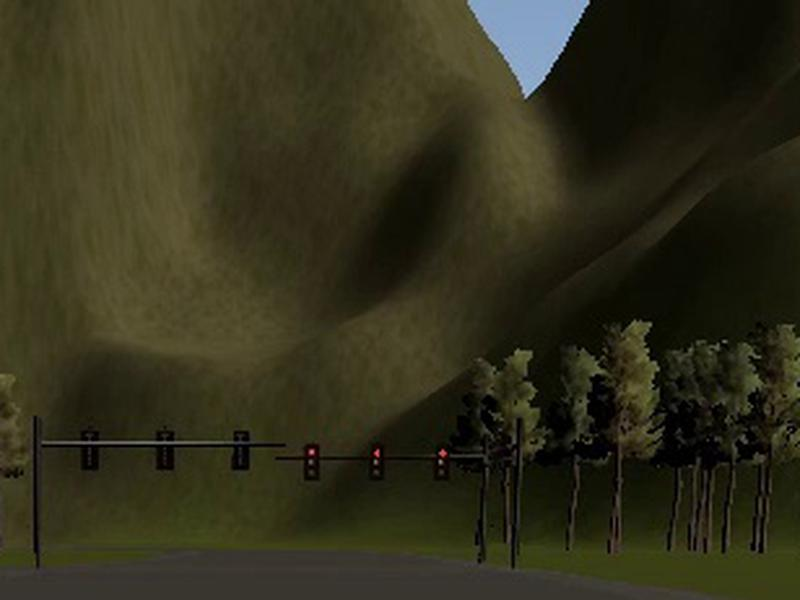Red: (368, 443, 386, 481), (304, 444, 319, 482), (435, 443, 450, 481)
